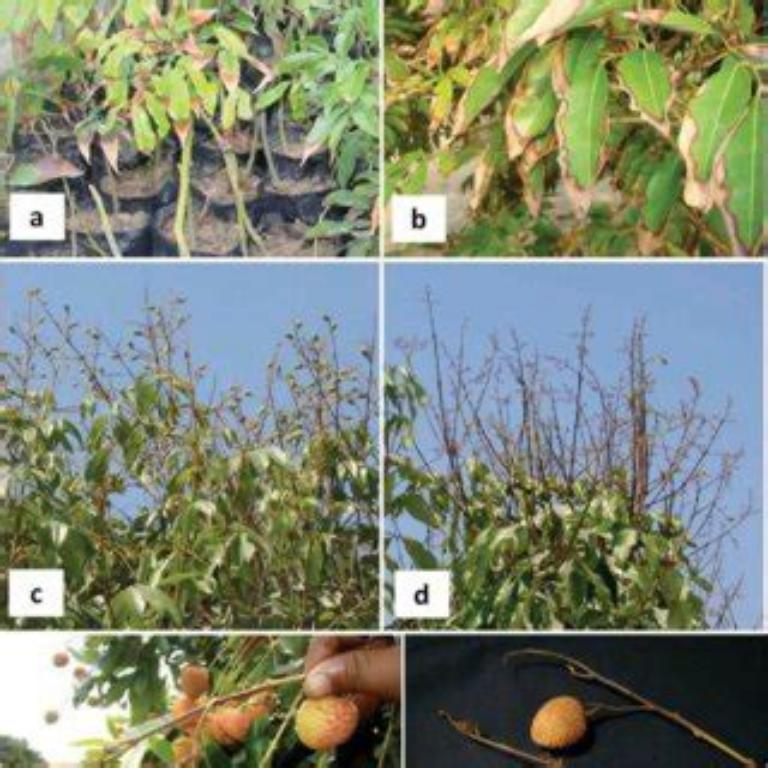blight: (674, 103, 740, 217)
